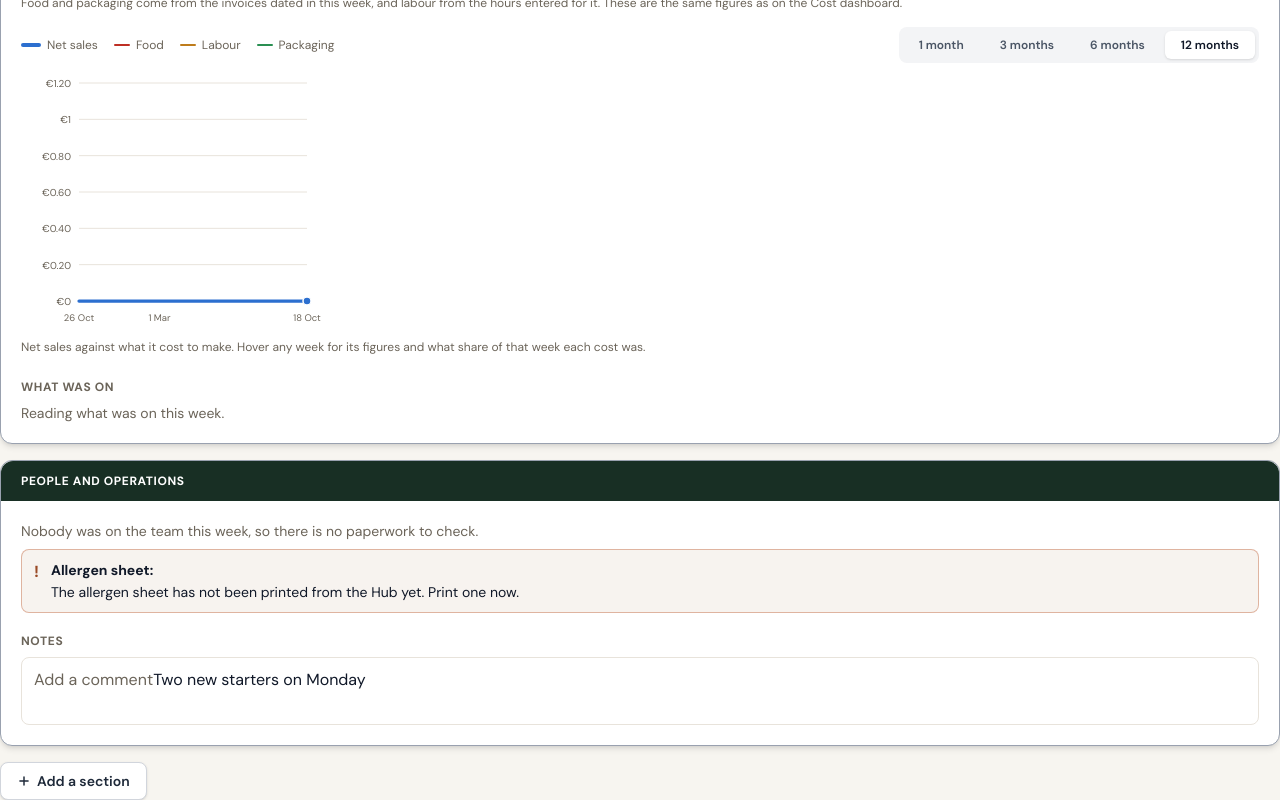
Test: the save line › says Not saved once a write fails, rather than the time of the last one
The image size is (1280, 800).
(page scrolled)
Clear the field named "Add a comment" at (640, 691), box [21,657,1259,725]
(page scrolled)
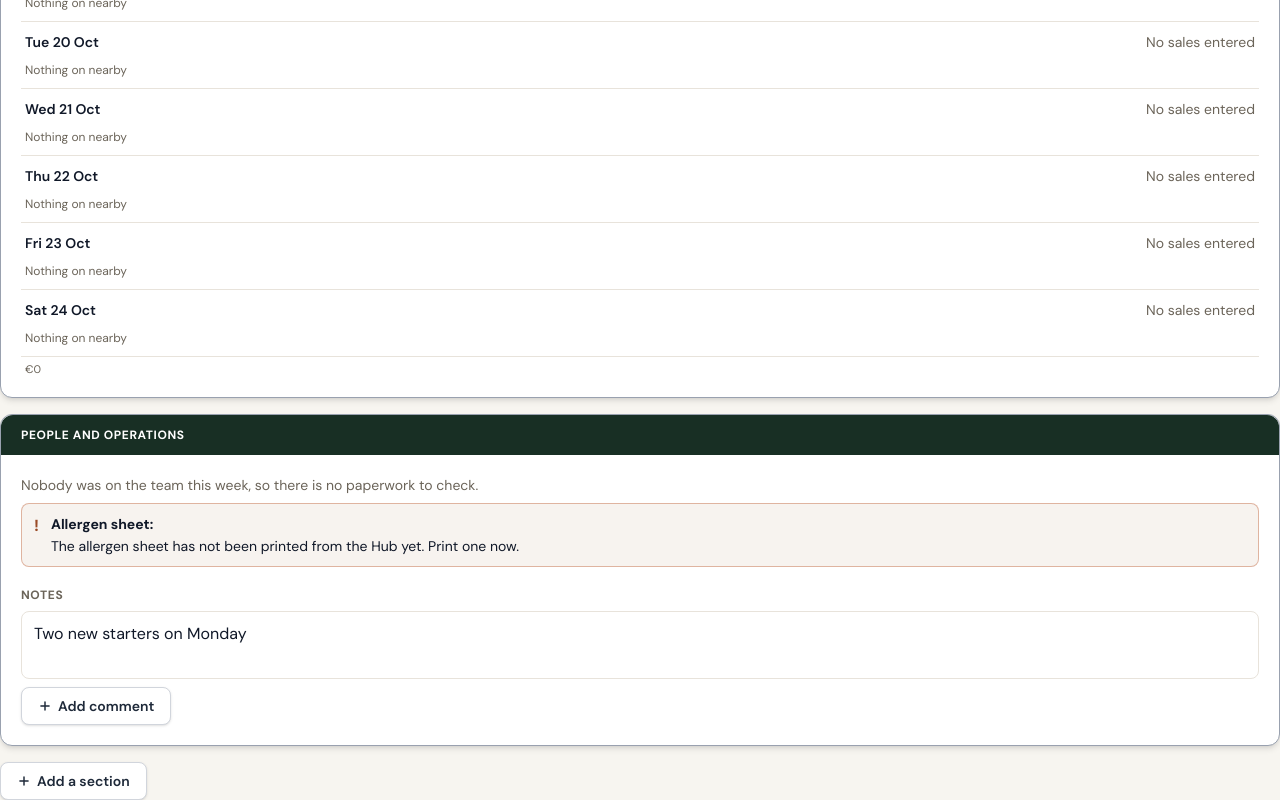
Leave the field named "Add a comment", box [21,611,1259,679]
(page scrolled)
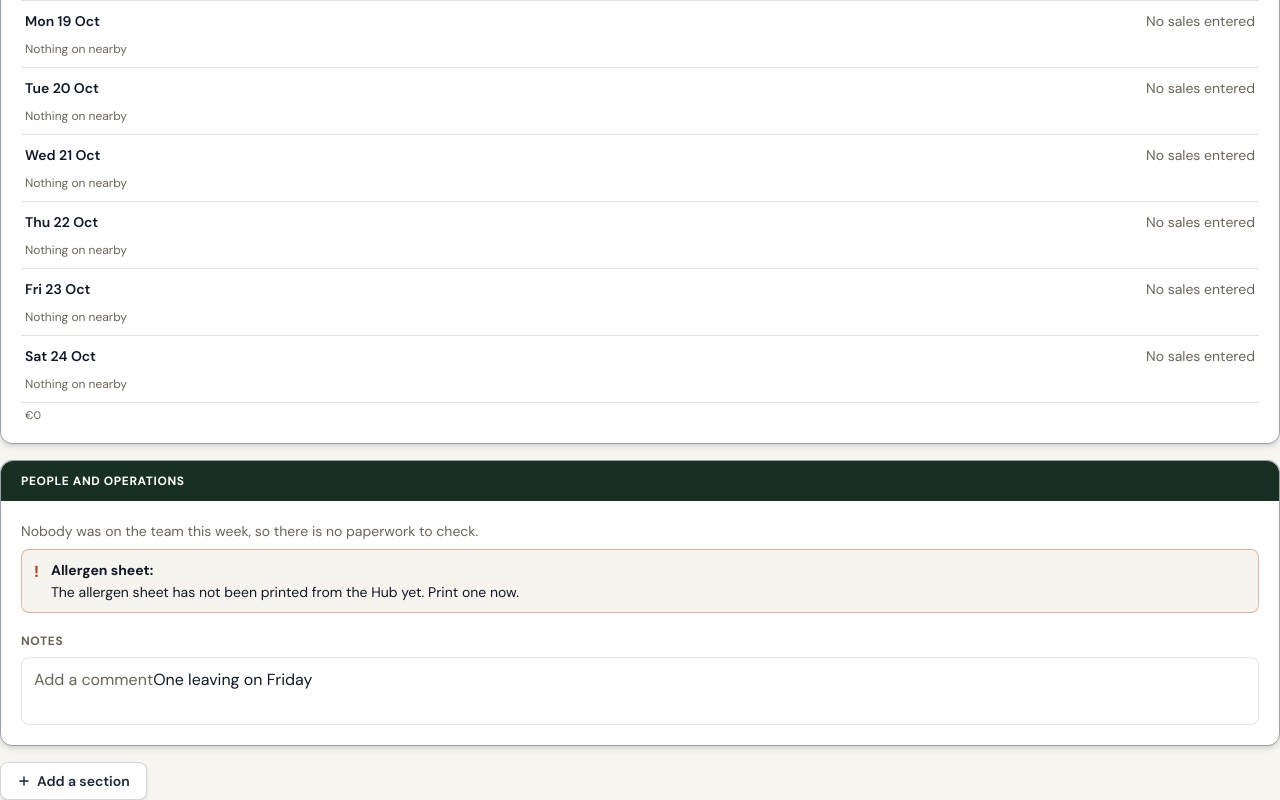
Clear the field named "Add a comment" at (640, 691), box [21,657,1259,725]
(page scrolled)
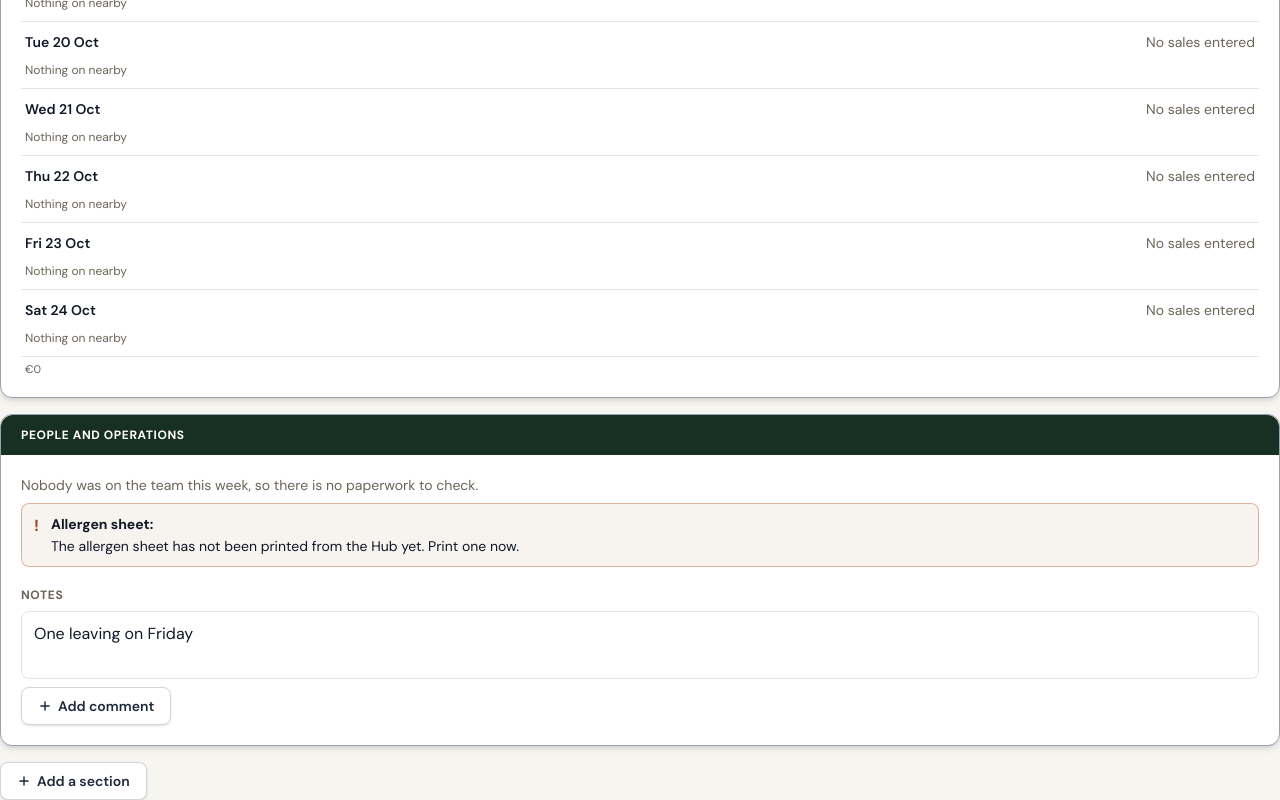
Leave the field named "Add a comment", box [21,611,1259,679]
(page scrolled)
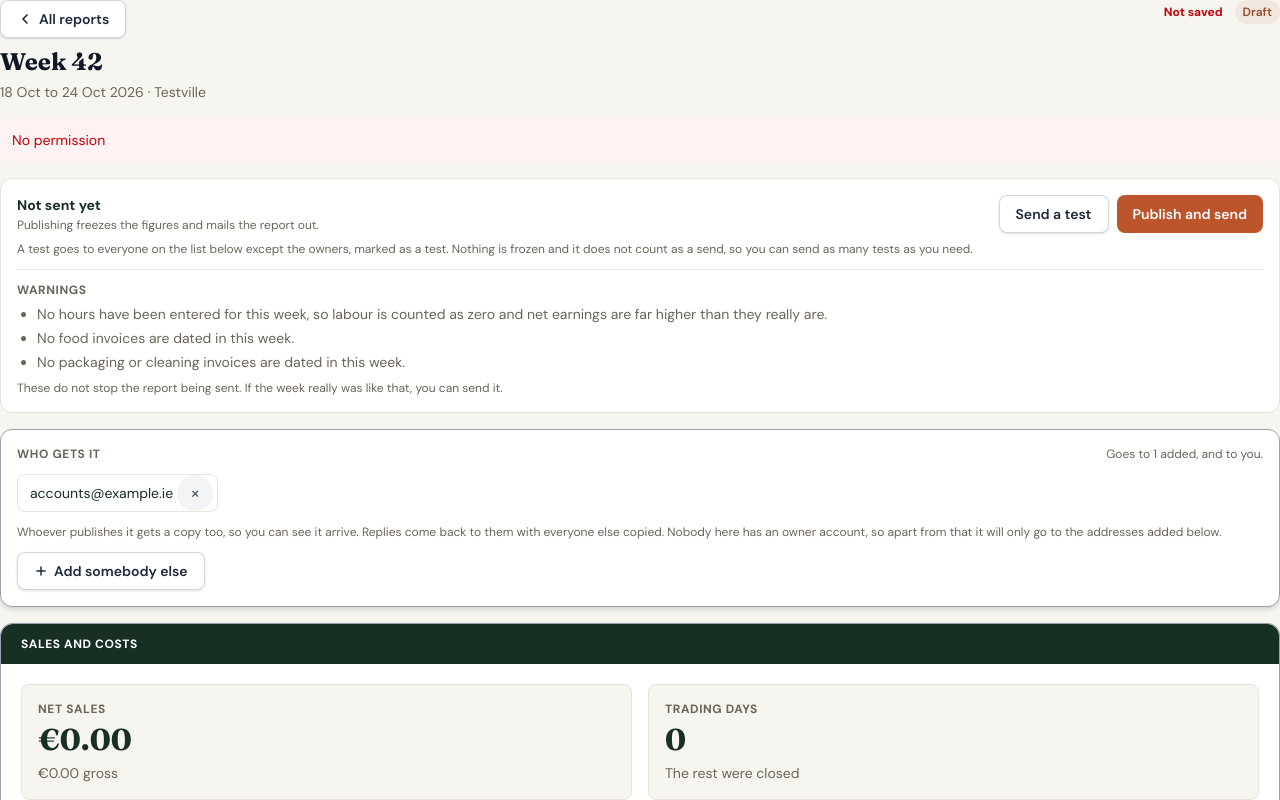
Expected: the text "Not saved" is shown, [1164,4,1223,20]
